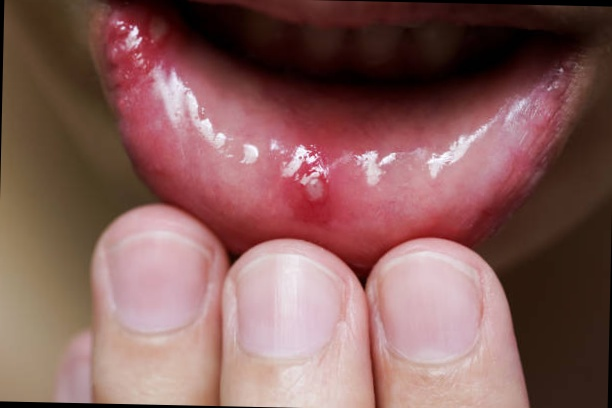Ulcer: (106, 6, 175, 102), (300, 167, 332, 205)
